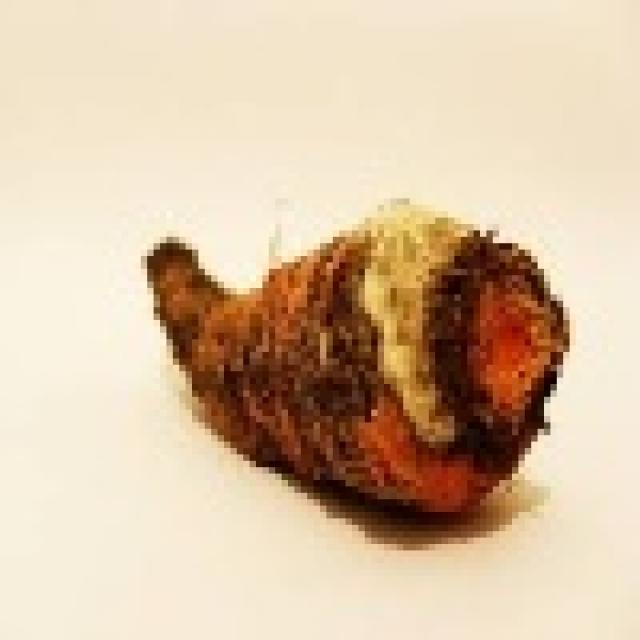Stale_Carrot: (143, 214, 553, 534)
